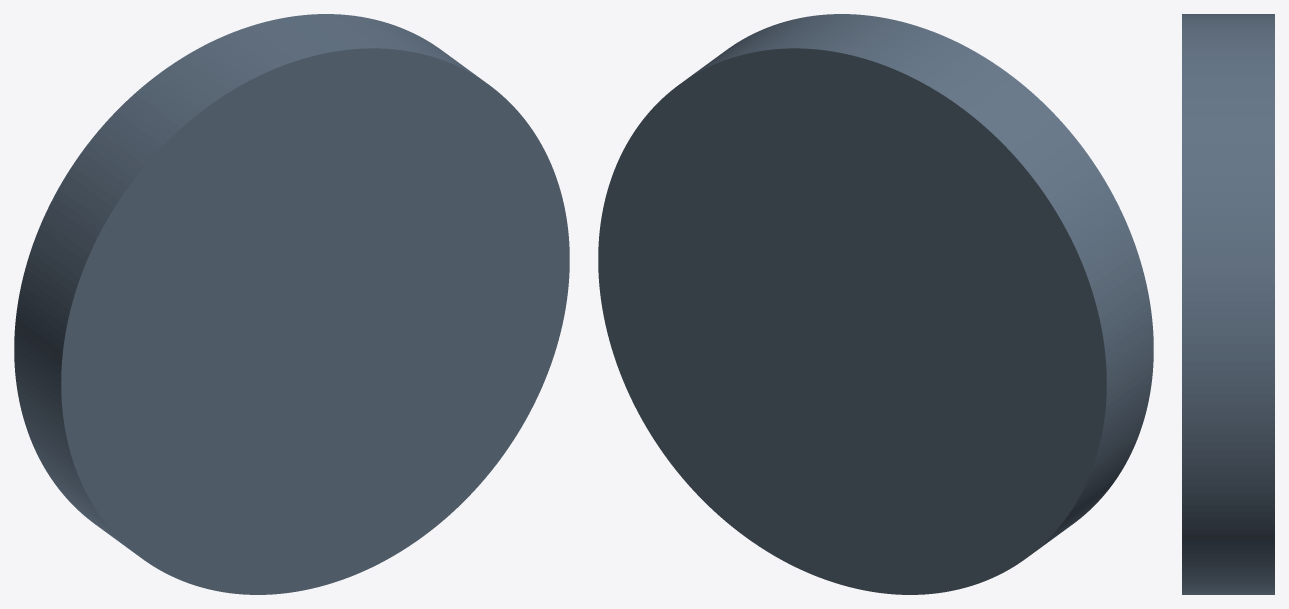
The picture shows the model from 3 angles, left to right: view 1: azimuth 30°, elevation 25°; view 2: azimuth 150°, elevation 25°; view 3: azimuth 270°, elevation 25°; orthographic projection.
Parts seen in each view (by area): view 1: CR2032; view 2: CR2032; view 3: CR2032.
Boxes of the visible parts, <box> form: CR2032: <box>14,14,569,594</box>; CR2032: <box>598,14,1153,594</box>; CR2032: <box>1182,14,1274,594</box>.
Size of the model in its own units: 20 by 20 by 3.2.
